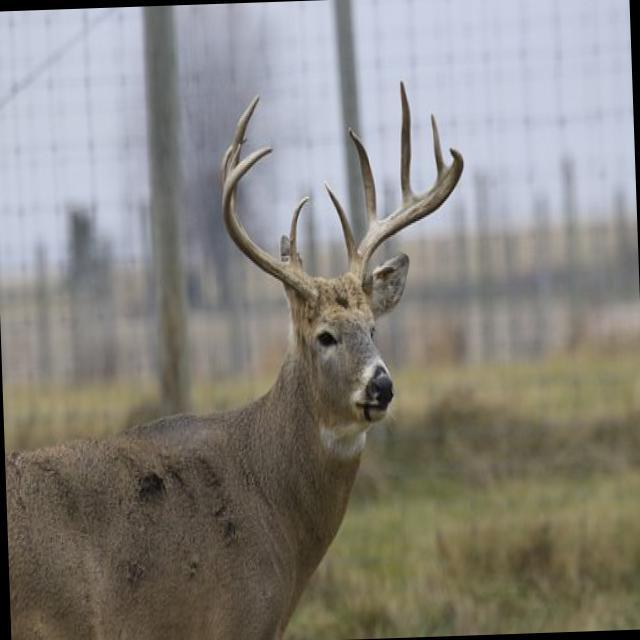L-F: (350, 146, 464, 277)
L-G1: (322, 178, 356, 265)
L-G2: (347, 124, 377, 229)
L-G3: (398, 79, 413, 202)
L-G4: (429, 111, 446, 178)
R-F: (221, 146, 315, 304)
R-G1: (288, 195, 310, 261)
